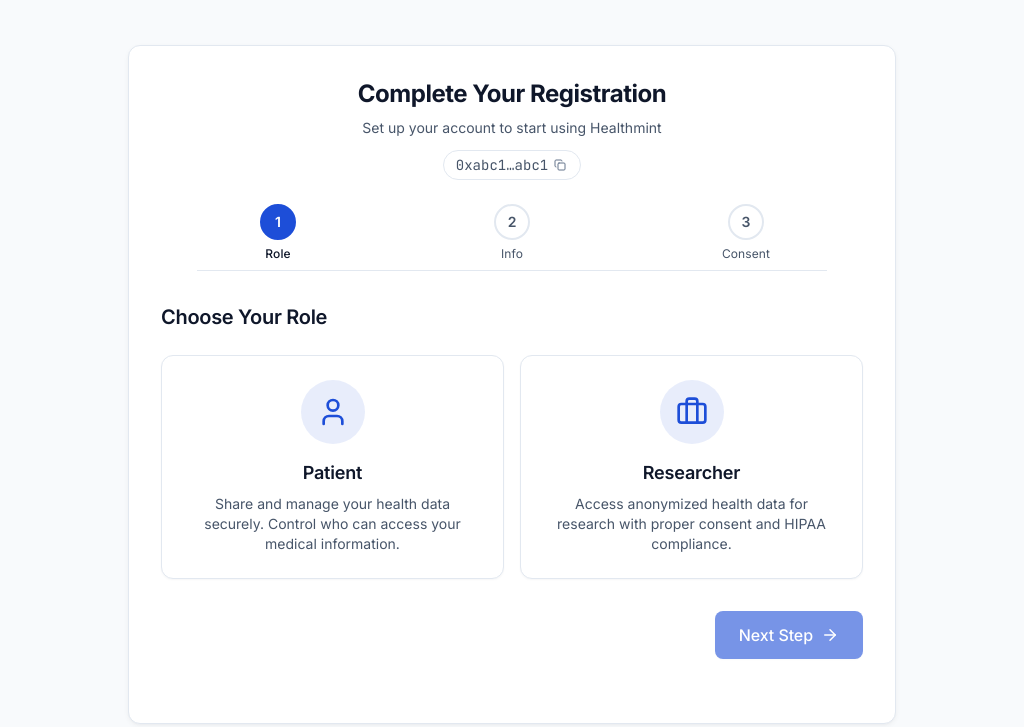
Test: UserRegistration › Step 1 — role selection › advances to step 2 when Next Step is clicked after role selection
Step 1. Click the button "Patient" → click(332, 466), box [161, 354, 504, 578]
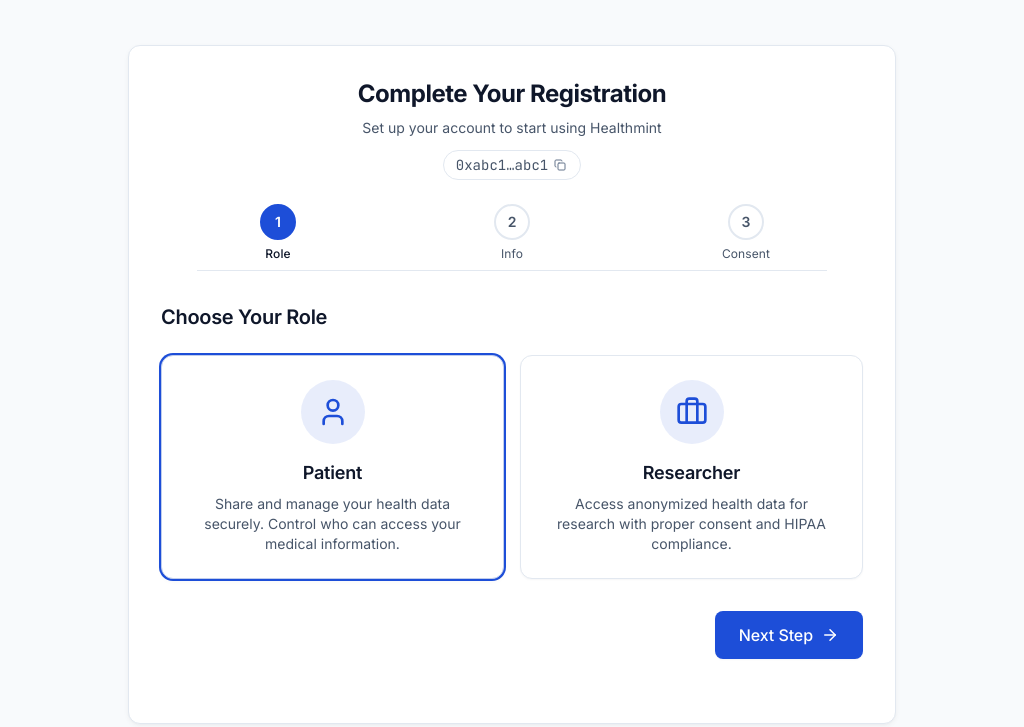
Step 2. Click the button "Next Step" → click(789, 634), box [715, 610, 863, 658]
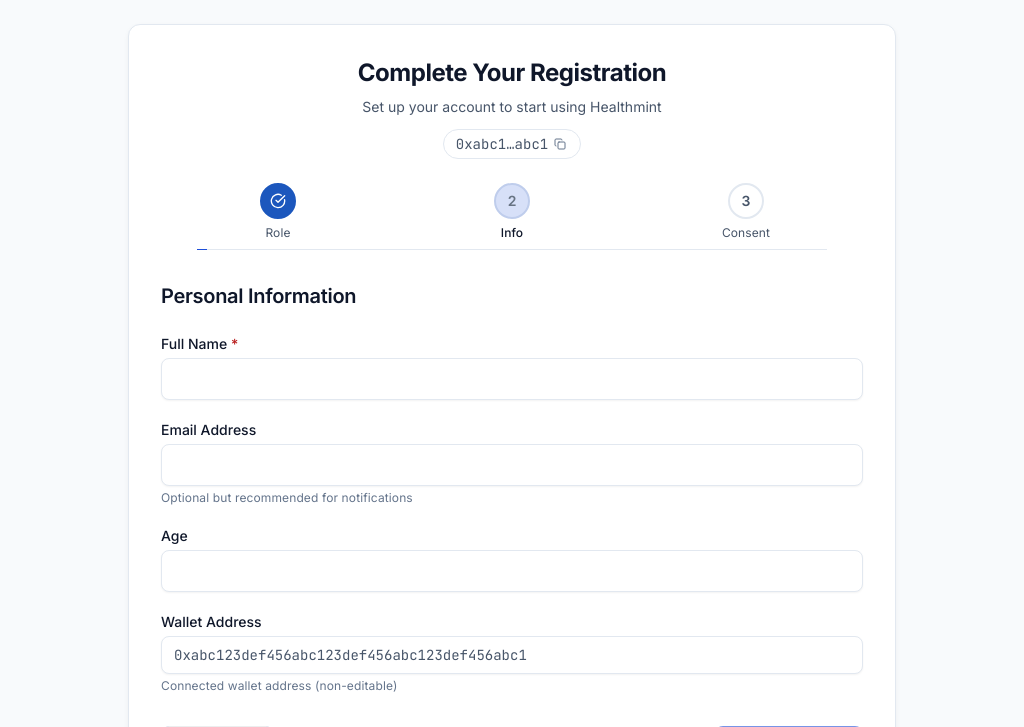
Result: the heading "Personal Information" is shown at [161, 284, 356, 308]
